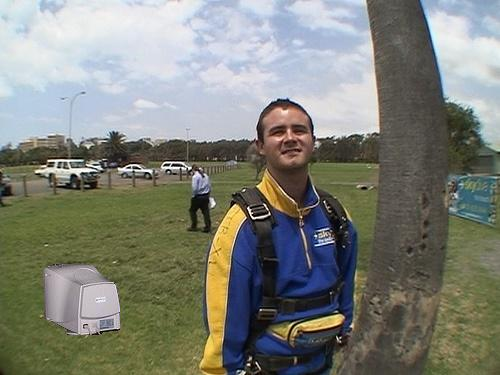tampered: (44, 265, 120, 335)
